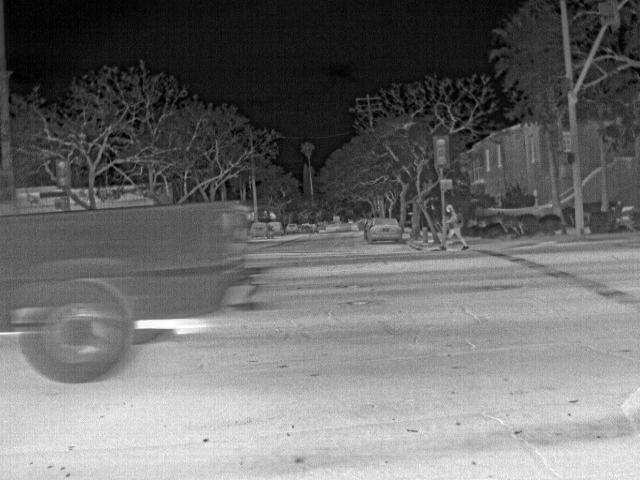car: (2, 192, 253, 386), (365, 215, 403, 243), (252, 221, 268, 239), (296, 223, 312, 235), (275, 220, 285, 236), (309, 222, 322, 234), (286, 223, 298, 234), (315, 220, 328, 230)
person: (441, 203, 470, 252), (265, 220, 275, 239)
